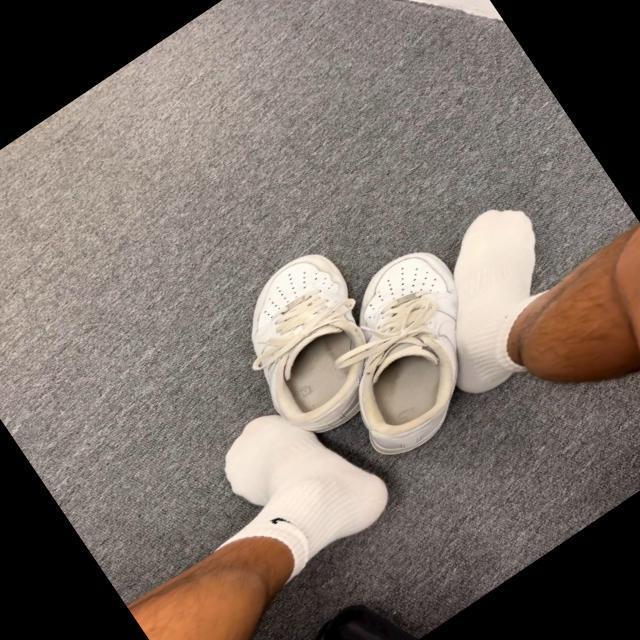nike original air force: (295, 233, 530, 470), (210, 239, 422, 458)
